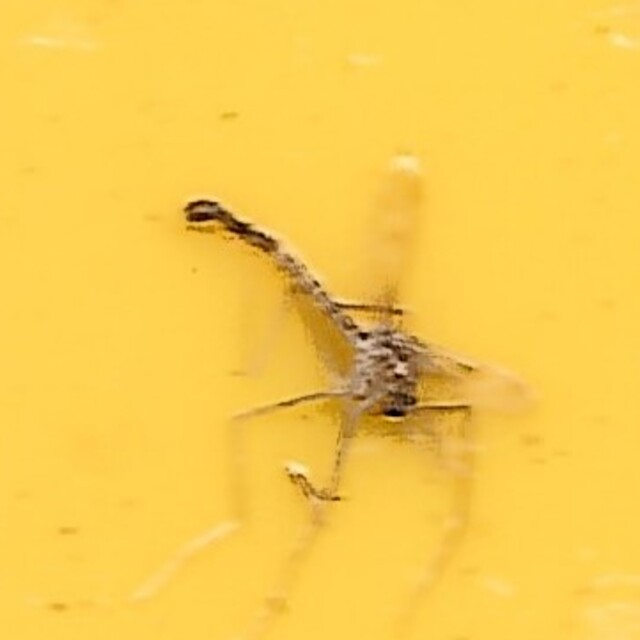Nematocera: (177, 179, 463, 461)
